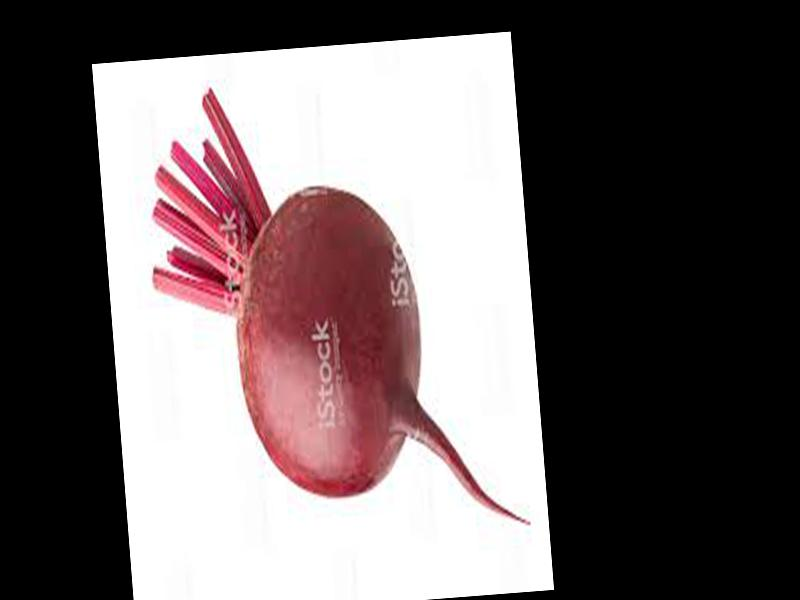Beet: (138, 69, 524, 554)
